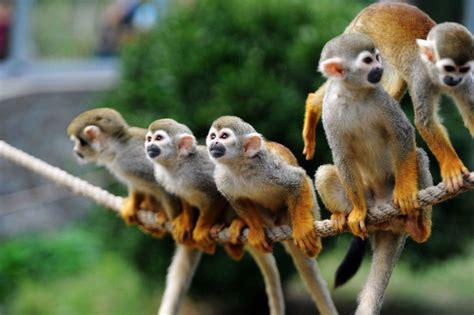monkey: (304, 1, 474, 189), (316, 34, 429, 240), (208, 115, 321, 255), (67, 106, 176, 228), (146, 119, 219, 249)
